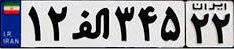character: (69, 3, 112, 44), (111, 3, 136, 45), (43, 3, 69, 43), (159, 2, 183, 44), (137, 3, 159, 44), (23, 3, 43, 43), (211, 11, 233, 46), (189, 11, 210, 45)
